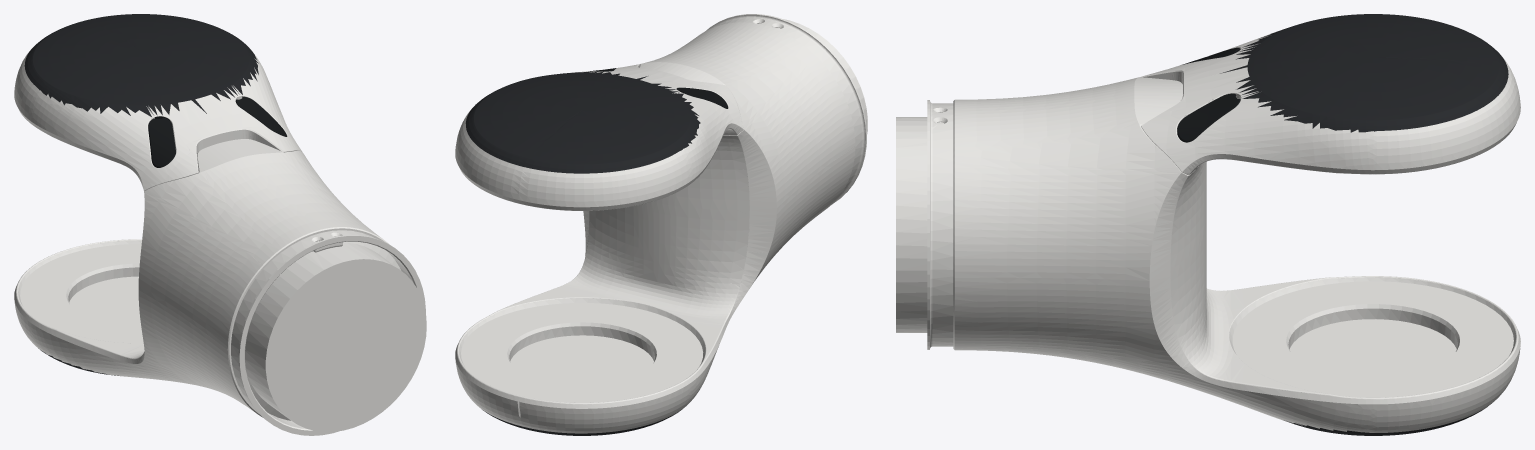
The model's file is AR5_5_08R_W4C4A6_link2_vis.obj.
3 views of the same model, side by side, from view 1: azimuth 30°, elevation 25°; view 2: azimuth 150°, elevation 25°; view 3: azimuth 270°, elevation 25° (orthographic). The views are drawn at different scales.
Visible parts, largest first — view 1: AR5_5_08R_W4C4A6_link2; view 2: AR5_5_08R_W4C4A6_link2; view 3: AR5_5_08R_W4C4A6_link2.
Part boxes in pixels (bbox=[...]): AR5_5_08R_W4C4A6_link2: bbox=[14, 14, 426, 435]; AR5_5_08R_W4C4A6_link2: bbox=[455, 14, 867, 435]; AR5_5_08R_W4C4A6_link2: bbox=[896, 14, 1520, 435].
Bounding box in the file's own units: 0.1132 × 0.1417 × 0.2397.
1 material, 1 textured.
